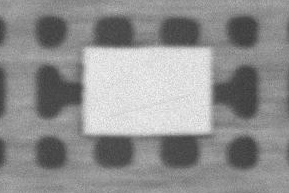DIE_CRACK: (154, 63, 283, 79)
